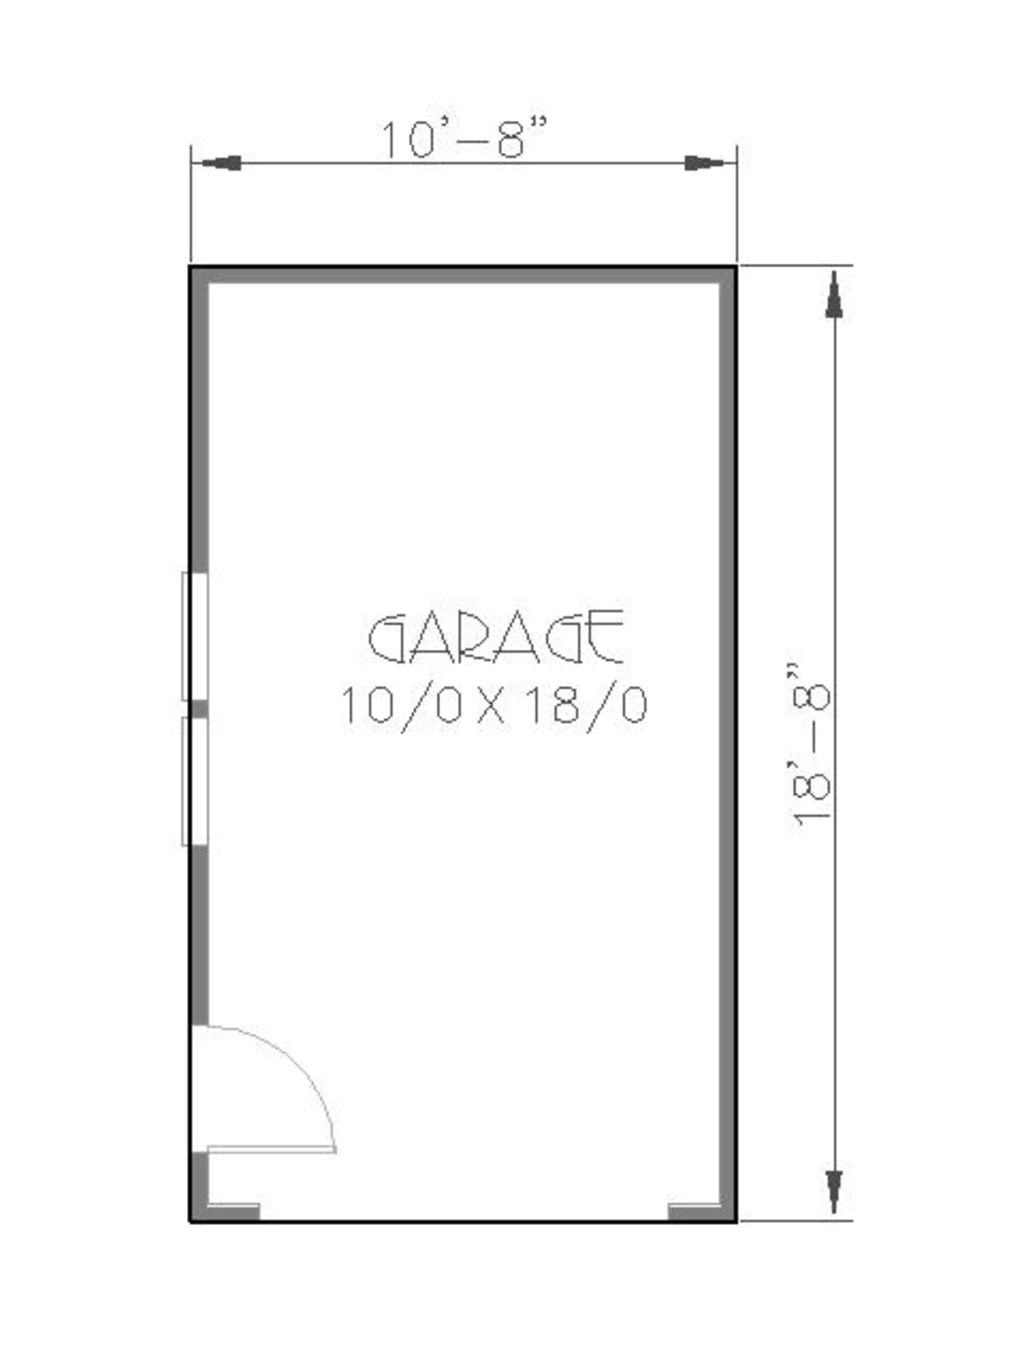door: (180, 1009, 351, 1161)
window: (190, 711, 219, 847), (188, 561, 205, 705)
